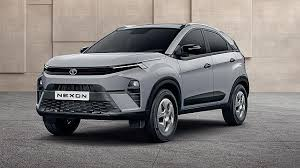Tata Nexon: (33, 21, 251, 142)
